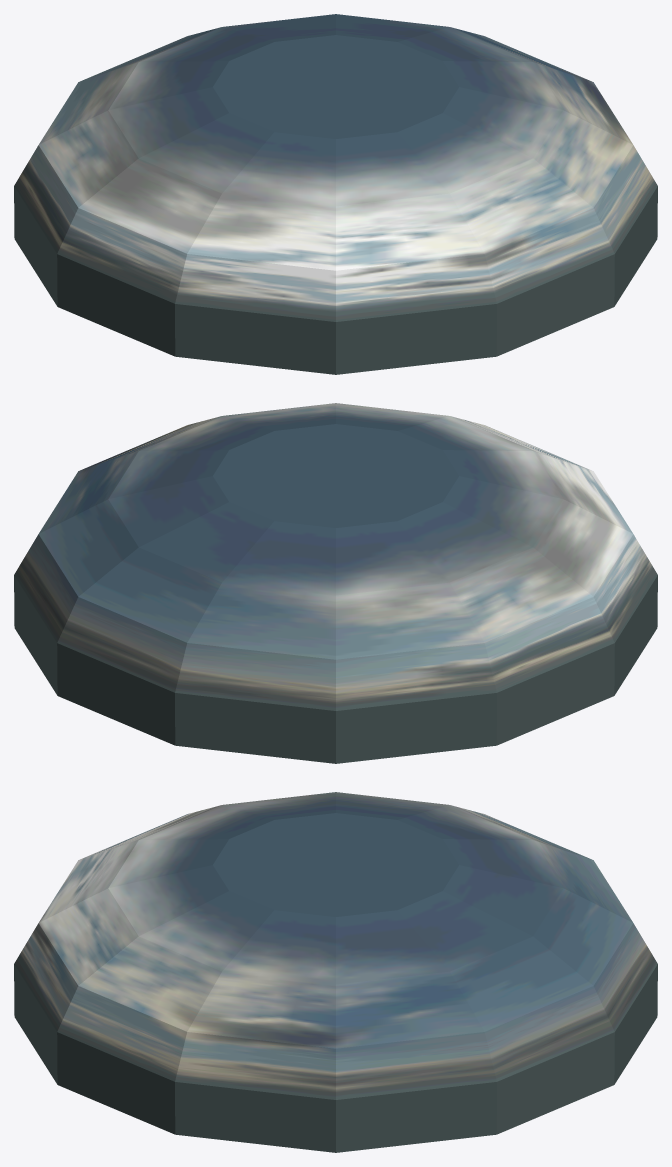
File: recovered_map_m71.glb
3 views of the same model, one above another, from view 1: azimuth 30°, elevation 25°; view 2: azimuth 150°, elevation 25°; view 3: azimuth 270°, elevation 25° (orthographic).
Parts seen in each view (by area): view 1: S_congo4s_sky01, S_congo4s_skycap01; view 2: S_congo4s_sky01, S_congo4s_skycap01; view 3: S_congo4s_sky01, S_congo4s_skycap01.
Boxes of the visible parts, box(x1,y1,x2,y2) form: S_congo4s_sky01: box(14, 14, 657, 374); S_congo4s_skycap01: box(213, 35, 458, 138); S_congo4s_sky01: box(14, 403, 657, 763); S_congo4s_skycap01: box(213, 424, 458, 527); S_congo4s_sky01: box(14, 792, 657, 1152); S_congo4s_skycap01: box(213, 813, 458, 916).
Size of what is drawn, in the model's own units: 916 by 239 by 916.
Materials: 99 (99 with a texture image).
